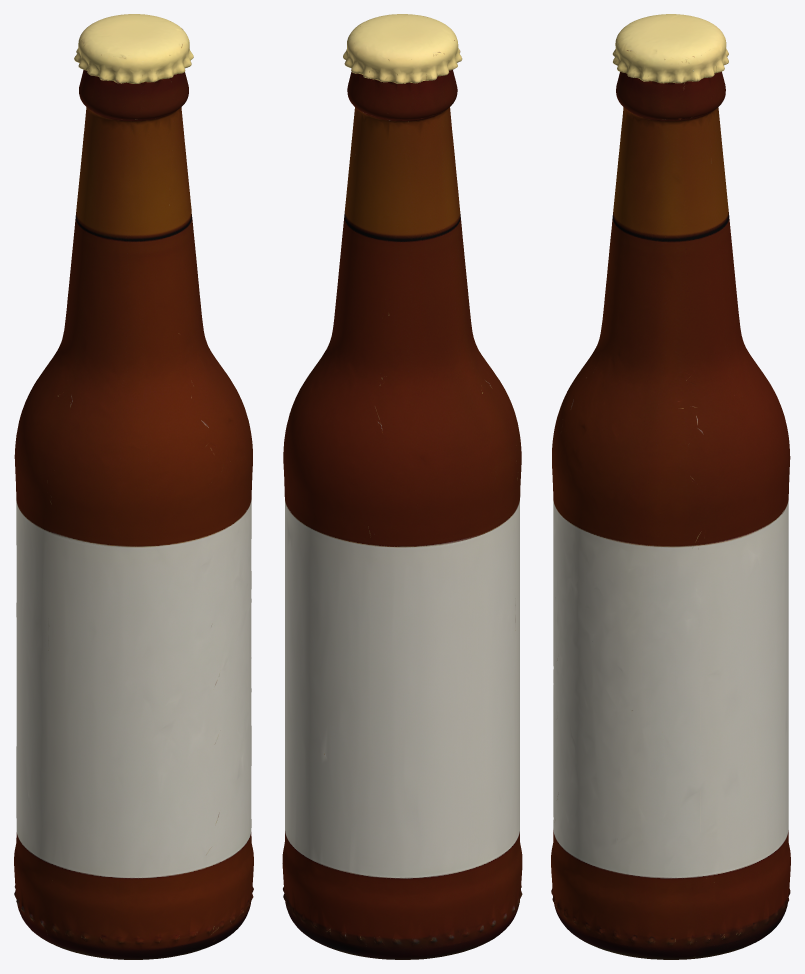
Rendered from baa41c6c-4c98-41b4-b848-36d2c614f2e1.glb.
The picture shows the model from 3 angles, left to right: view 1: azimuth 30°, elevation 25°; view 2: azimuth 150°, elevation 25°; view 3: azimuth 270°, elevation 25°; orthographic projection.
Parts seen in each view (by area): view 1: Mesh_0; view 2: Mesh_0; view 3: Mesh_0.
Boxes of the visible parts, x1=… form: Mesh_0: x1=14, y1=14, x2=253, y2=959; Mesh_0: x1=282, y1=14, x2=522, y2=959; Mesh_0: x1=551, y1=14, x2=790, y2=959.
Size of the model in its own units: 0.4679 by 1.91 by 0.4682.
1 material, 1 textured.
